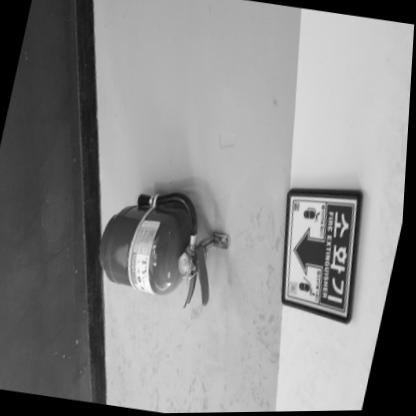FE: (89, 182, 233, 313)
